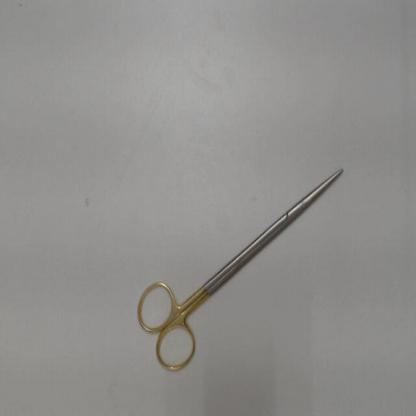7 Metzenbaum Scissors: (133, 161, 349, 379)
